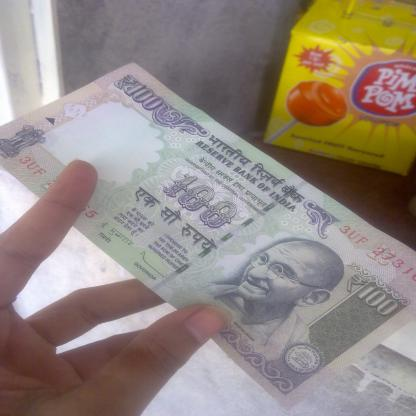Old100Front: (0, 59, 415, 409)
